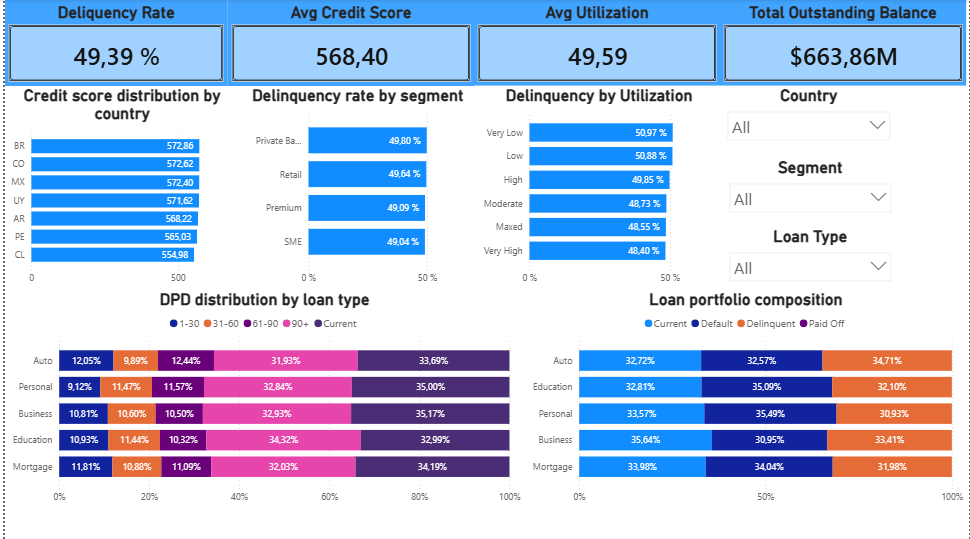

The page's visual inventory and layout, read from the dashboard file:
{"tool":"powerbi","page":{"name":"Risk & Credit","canvas":[1280,720],"ordinal":2},"visuals":[{"type":"cardVisual","title":"Deliquency Rate","fields":{"Data":["gold_loan_summary.Delinquency Rate"]},"box":[0,0,295.7,115.7],"z":0},{"type":"cardVisual","title":"Avg Credit Score","fields":{"Data":["Avg(gold_credit_summary.credit_score)"]},"box":[295.7,0,327.1,115.7],"z":1000},{"type":"cardVisual","title":"Avg Utilization","fields":{"Data":["Avg(gold_credit_summary.utilization_pct)"]},"box":[622.9,0,327.1,115],"z":2000},{"type":"cardVisual","title":"Total Outstanding Balance","fields":{"Data":["Sum(gold_loan_summary.outstanding_balance)"]},"box":[950,0,327.1,115],"z":3000},{"type":"clusteredBarChart","title":"Credit score distribution by country","fields":{"Y":["Avg(gold_credit_summary.credit_score)"],"Category":["gold_credit_summary.country"]},"box":[0,115.1,311.5,272.6],"z":4000},{"type":"clusteredBarChart","title":"Delinquency rate by segment","fields":{"Y":["gold_loan_summary.Delinquency Rate"],"Category":["gold_customer_summary.Segment"]},"box":[311.5,115.1,313.2,272.6],"z":5000},{"type":"clusteredBarChart","title":"Delinquency by Utilization ","fields":{"Y":["gold_loan_summary.Delinquency Rate"],"Category":["gold_credit_summary.utilization_bucket"]},"box":[625.9,115,327.1,273.4],"z":6000},{"type":"hundredPercentStackedBarChart","title":"DPD distribution by loan type","fields":{"Category":["gold_loan_summary.type"],"Y":["CountNonNull(gold_loan_summary.loan_id)"],"Series":["gold_loan_summary.dpd_bucket"]},"box":[0,386.9,690.1,292.8],"z":7000},{"type":"hundredPercentStackedBarChart","title":"Loan portfolio composition","fields":{"Y":["Sum(gold_loan_summary.outstanding_balance)"],"Category":["gold_loan_summary.type"],"Series":["gold_loan_summary.status"]},"box":[690.1,386.9,587.1,292.8],"z":8000},{"type":"slicer","title":"Country","fields":{"Values":["gold_credit_summary.country"]},"box":[950,115,236,83.7],"z":9000},{"type":"slicer","title":"Segment","fields":{"Values":["gold gold_customer_summary.Segment"]},"box":[953,210.6,234.5,83.7],"z":10000},{"type":"slicer","title":"Loan Type","fields":{"Values":["gold_loan_summary.type"]},"box":[953,303.2,234.5,83.7],"z":11000}]}

Visuals, with their boxes in screenshot pixels (x1, y1, x2, y2), scaled from the page's 1280x720 canvas onto the 970x539 screenshot:
"Deliquency Rate" cardVisual: BBox(0, 0, 224, 87)
"Avg Credit Score" cardVisual: BBox(224, 0, 472, 87)
"Avg Utilization" cardVisual: BBox(472, 0, 720, 86)
"Total Outstanding Balance" cardVisual: BBox(720, 0, 968, 86)
"Credit score distribution by country" clusteredBarChart: BBox(0, 86, 236, 290)
"Delinquency rate by segment" clusteredBarChart: BBox(236, 86, 473, 290)
"Delinquency by Utilization " clusteredBarChart: BBox(474, 86, 722, 291)
"DPD distribution by loan type" hundredPercentStackedBarChart: BBox(0, 290, 523, 509)
"Loan portfolio composition" hundredPercentStackedBarChart: BBox(523, 290, 968, 509)
"Country" slicer: BBox(720, 86, 899, 149)
"Segment" slicer: BBox(722, 158, 900, 220)
"Loan Type" slicer: BBox(722, 227, 900, 290)
